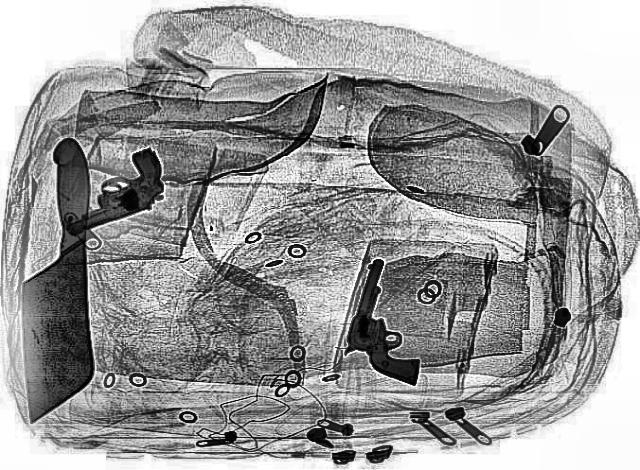Gun: (328, 256, 454, 384), (33, 145, 189, 237)
Knife: (2, 136, 110, 424)
